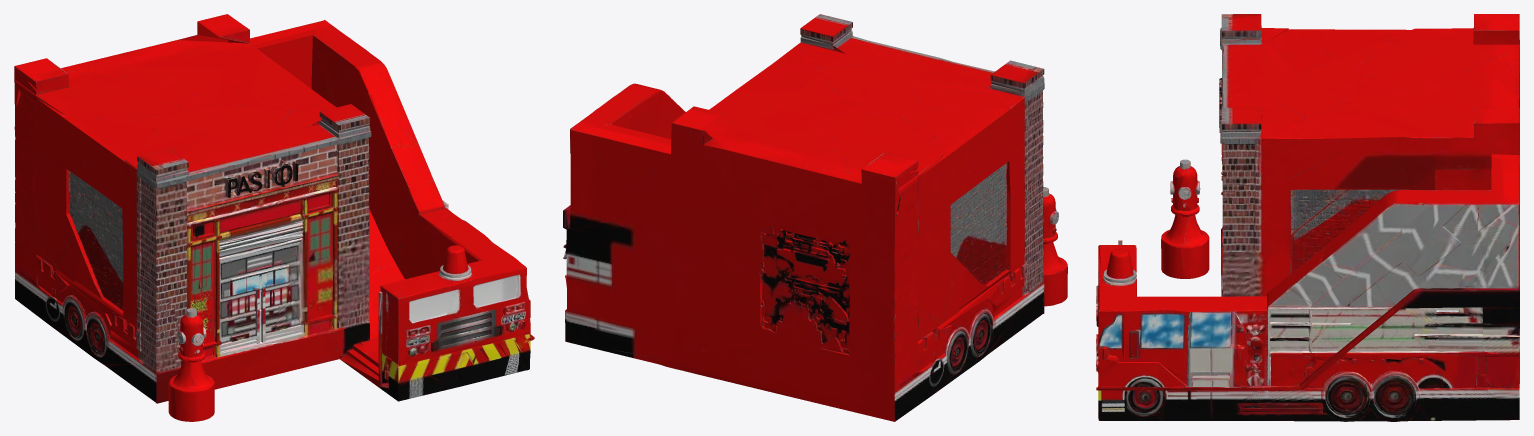
The model's file is hrad-2.glb.
The picture shows the model from 3 angles, left to right: view 1: azimuth 30°, elevation 25°; view 2: azimuth 150°, elevation 25°; view 3: azimuth 270°, elevation 25°; orthographic projection. The views are drawn at different scales.
Bounding box in the file's own units: 1.74 × 1.22 × 1.9.
1 material, 1 textured.
